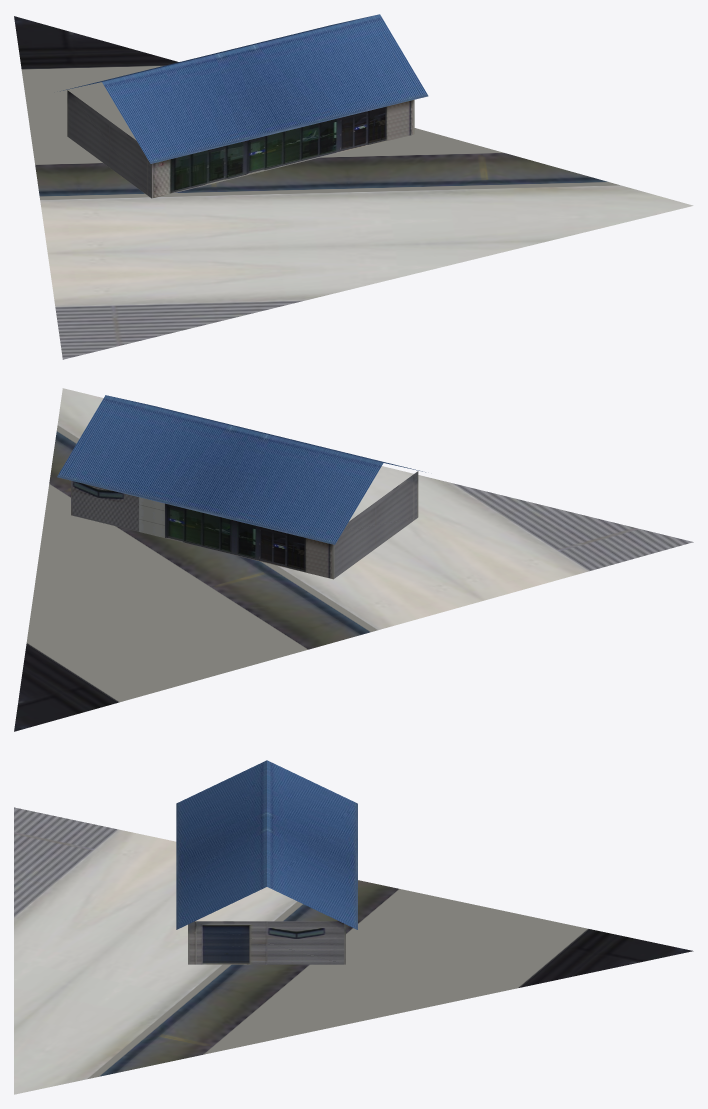
Rendered from terminal-small-09-17x10-cbj_LOD03.gltf.
3 views of the same model, one above another, from view 1: azimuth 30°, elevation 25°; view 2: azimuth 150°, elevation 25°; view 3: azimuth 270°, elevation 25° (orthographic). The views are drawn at different scales.
Visible parts, largest first — view 1: Sketchup03; view 2: Sketchup03; view 3: Sketchup03.
Part boxes in pixels (x1,y1,x2,y2): Sketchup03: [14, 14, 693, 359]; Sketchup03: [14, 388, 693, 731]; Sketchup03: [14, 760, 693, 1094].
Bounding box in the file's own units: 40.85 × 8.4 × 40.85.
